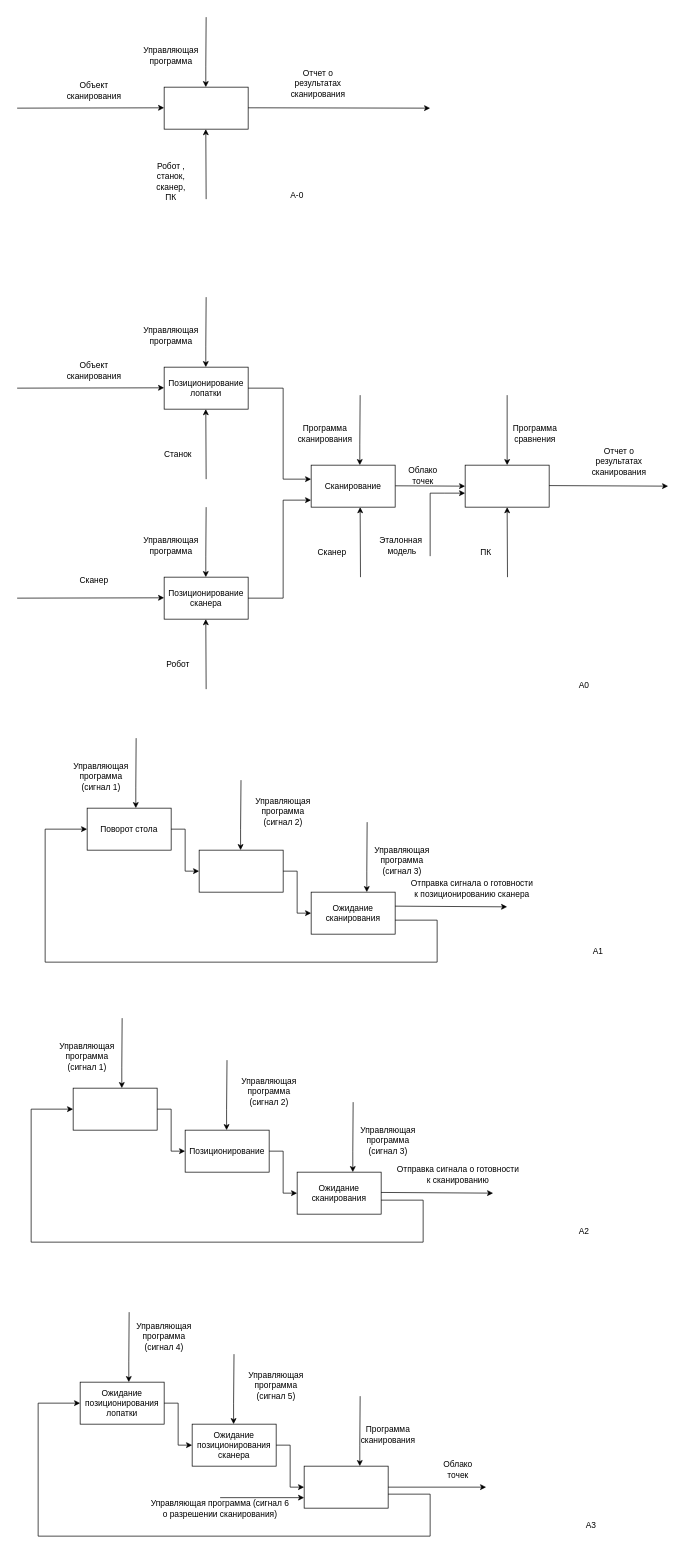
This 686x1554 diagram has some shape labels left out. The centre of each missing label's shape, as x and y in pixels:
"Обработка данных" belongs at [506,485].
"Ожидание станка" belongs at [114,1108].
"Остановка стола" belongs at [240,870].
"Процесс сканирования" belongs at [345,1486].
"Функциональный блок (сканирование)" belongs at [205,107].
